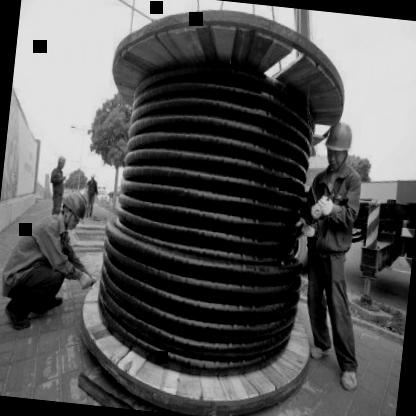helmet: (322, 118, 356, 173), (56, 186, 90, 233), (54, 152, 68, 170)
